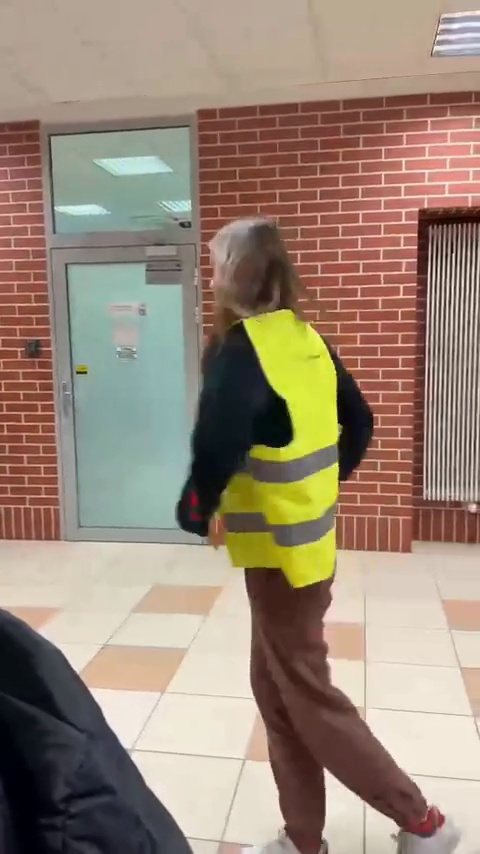vest: (181, 217, 451, 843)
